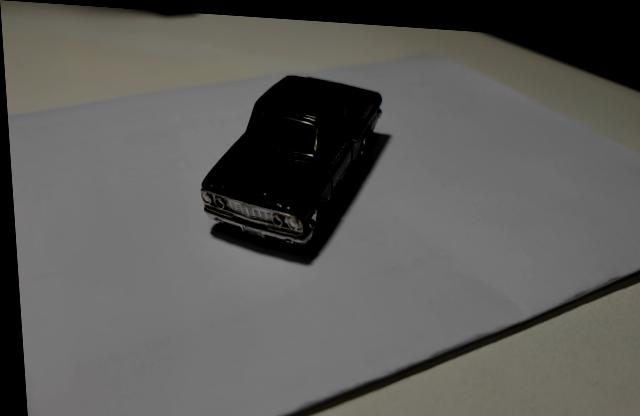01_FORD: (198, 73, 388, 242)
